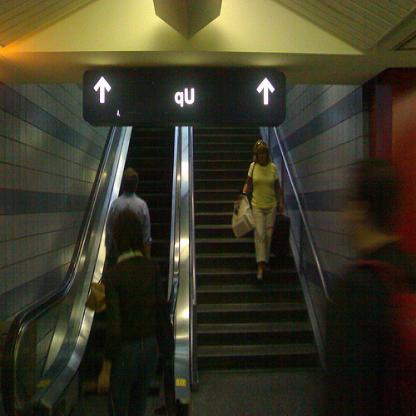stairs: (199, 290, 301, 380)
